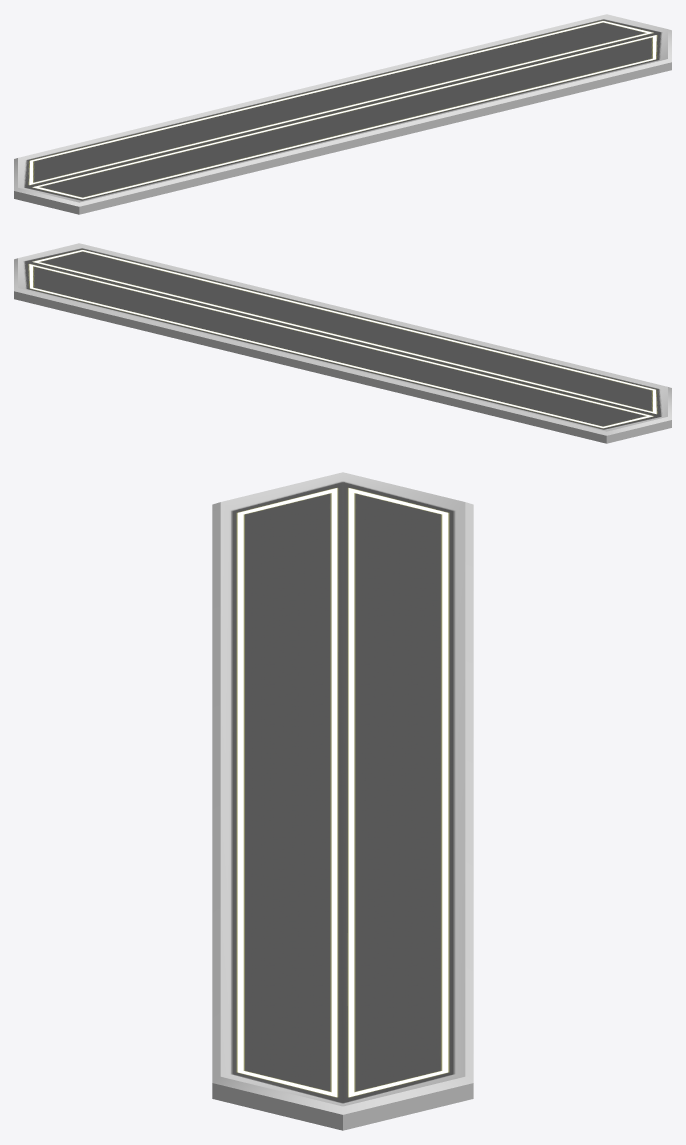
The model's file is Large_Landing_Pads.fbx.
3 views of the same model, one above another, from view 1: azimuth 30°, elevation 25°; view 2: azimuth 150°, elevation 25°; view 3: azimuth 270°, elevation 25° (orthographic). The views are drawn at different scales.
Parts seen in each view (by area): view 1: Large_Landing_Pads; view 2: Large_Landing_Pads; view 3: Large_Landing_Pads.
Part boxes in pixels (bbox=[...]): Large_Landing_Pads: bbox=[14, 14, 671, 214]; Large_Landing_Pads: bbox=[14, 243, 671, 443]; Large_Landing_Pads: bbox=[212, 472, 473, 1130].
Size of the model in its own units: 31476 by 464 by 5409.
